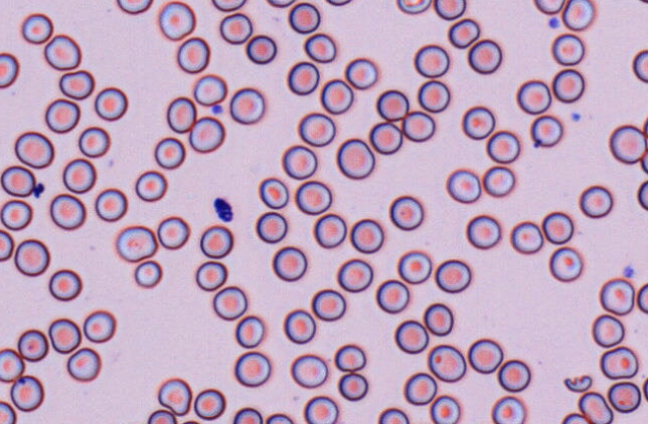PLT: (211, 105, 226, 117), (623, 265, 636, 277), (549, 16, 561, 28), (571, 112, 582, 123)
RBC: (336, 138, 375, 179), (115, 225, 157, 262), (427, 344, 466, 382), (609, 124, 646, 164), (14, 131, 54, 168), (158, 0, 195, 40), (234, 350, 271, 387), (188, 116, 225, 153), (43, 34, 81, 70), (157, 377, 192, 416), (49, 193, 85, 230), (229, 87, 265, 124), (294, 180, 332, 215), (14, 238, 49, 276), (290, 353, 328, 388), (599, 277, 634, 315), (271, 245, 307, 281), (434, 258, 471, 293), (10, 374, 44, 412), (599, 346, 638, 379), (281, 144, 317, 179), (44, 98, 80, 133), (467, 38, 502, 74), (467, 338, 503, 373), (298, 112, 335, 146), (446, 168, 481, 203), (516, 79, 551, 114), (212, 285, 247, 320), (66, 347, 101, 382), (466, 214, 501, 249), (337, 258, 373, 292), (176, 36, 209, 73), (397, 250, 432, 284), (62, 158, 96, 193), (389, 195, 423, 230), (548, 246, 582, 281), (320, 78, 353, 114), (283, 308, 316, 344), (413, 44, 449, 77), (394, 319, 428, 353), (156, 215, 190, 249), (461, 105, 495, 139), (375, 279, 409, 313), (199, 224, 233, 258), (311, 288, 346, 321), (313, 213, 346, 248), (350, 218, 383, 253), (48, 318, 81, 353), (94, 86, 127, 121), (403, 372, 437, 405), (486, 130, 520, 163), (510, 220, 543, 254), (94, 187, 127, 221), (48, 268, 82, 301), (83, 309, 116, 343), (579, 185, 613, 218), (578, 391, 613, 423), (0, 165, 35, 197), (58, 69, 94, 100), (166, 96, 196, 133), (369, 121, 402, 154), (497, 359, 530, 392), (417, 79, 450, 112), (591, 314, 624, 347), (193, 74, 227, 106), (401, 110, 435, 142), (607, 381, 641, 413), (287, 61, 319, 95), (552, 68, 584, 102), (376, 89, 409, 121), (482, 165, 515, 197), (219, 12, 252, 44), (530, 114, 562, 147), (344, 57, 377, 89), (551, 33, 584, 65), (255, 211, 287, 243), (21, 12, 53, 44), (193, 388, 225, 420), (135, 170, 167, 202), (154, 136, 185, 169), (542, 211, 573, 244), (17, 328, 48, 361), (195, 260, 227, 291), (0, 199, 32, 230), (258, 177, 289, 209), (78, 126, 110, 157), (288, 2, 320, 33), (447, 18, 480, 48), (423, 302, 453, 335), (303, 32, 336, 62), (303, 395, 338, 423), (562, 0, 594, 30), (235, 315, 264, 348), (245, 34, 276, 64), (491, 395, 524, 423), (337, 372, 368, 401), (429, 394, 460, 423), (334, 343, 366, 371), (0, 348, 24, 382), (134, 259, 162, 288), (0, 51, 19, 88), (434, 0, 465, 20), (632, 48, 648, 83), (116, 0, 153, 14), (377, 407, 409, 423), (396, 0, 431, 14), (232, 407, 262, 423), (0, 229, 14, 261), (533, 0, 565, 14), (147, 409, 177, 423), (211, 0, 246, 11), (0, 400, 16, 423), (560, 412, 589, 423), (265, 412, 294, 423), (637, 179, 647, 210), (637, 282, 647, 313), (265, 0, 295, 7), (640, 148, 648, 174), (324, 0, 352, 6), (642, 114, 648, 140), (642, 376, 648, 401), (180, 419, 201, 424), (638, 0, 648, 4)
Schistocyte: (563, 374, 593, 393)
